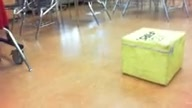cube: (120, 26, 186, 86)
